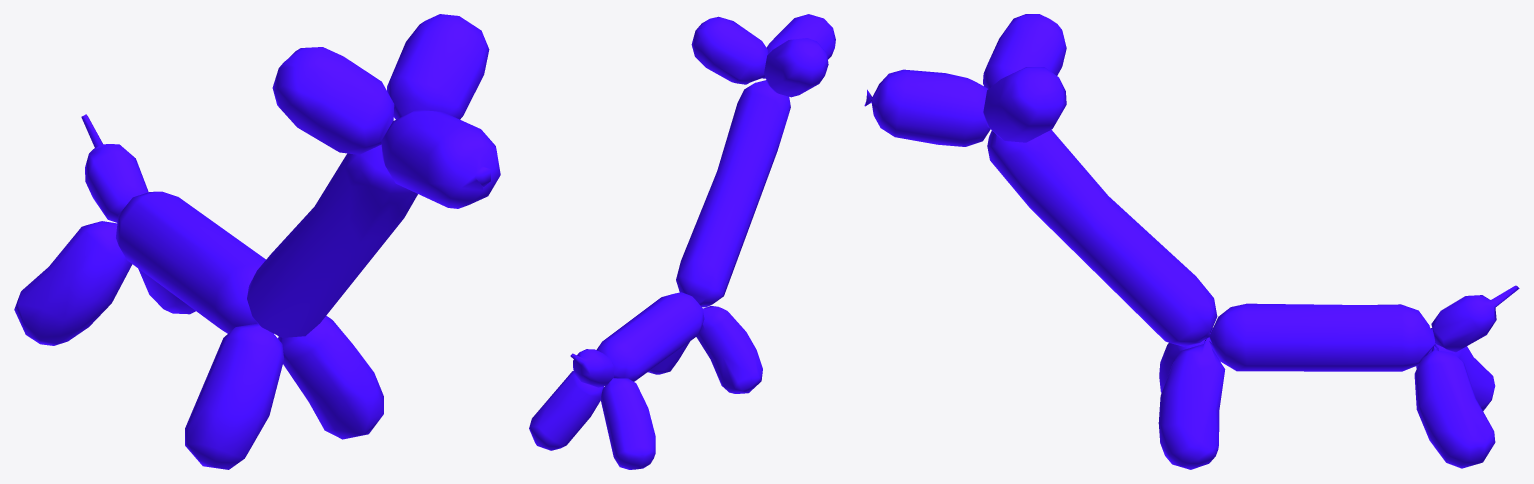
3 renders of one model, left to right at view 1: azimuth 30°, elevation 25°; view 2: azimuth 150°, elevation 25°; view 3: azimuth 270°, elevation 25°, orthographic. The views are drawn at different scales.
Parts seen in each view (by area): view 1: BalloonAnimalTallBlue; view 2: BalloonAnimalTallBlue; view 3: BalloonAnimalTallBlue.
Part boxes in pixels (x1,y1,x2,y2): BalloonAnimalTallBlue: (14, 14, 500, 469); BalloonAnimalTallBlue: (529, 14, 835, 469); BalloonAnimalTallBlue: (864, 14, 1519, 469).
Size of what is drawn, in the model's own units: 0.2693 by 0.6135 by 0.9162.
1 material, 1 textured.
